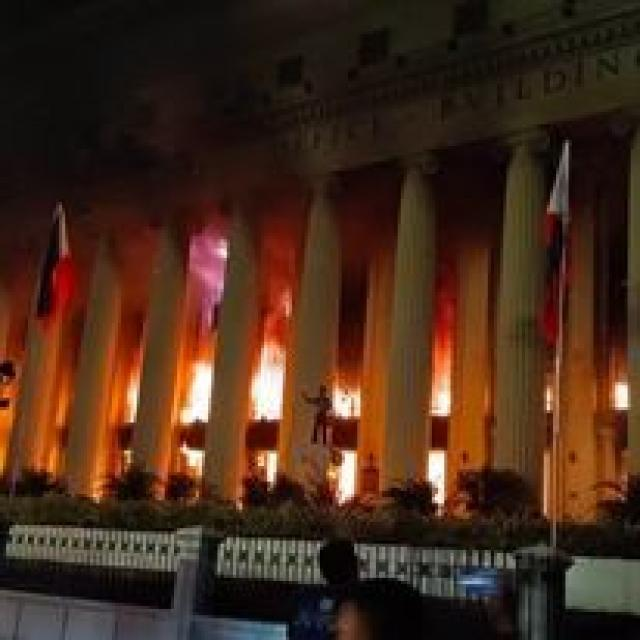Fire: (430, 334, 456, 428), (429, 451, 451, 518), (258, 355, 280, 414), (190, 364, 212, 414), (343, 444, 355, 496)
